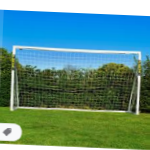goals: (10, 44, 141, 119)
